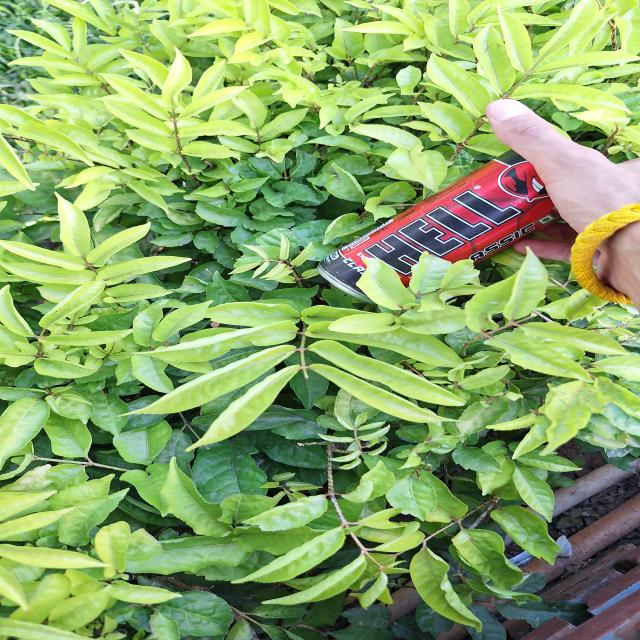Hell Classic: (319, 154, 543, 314)
